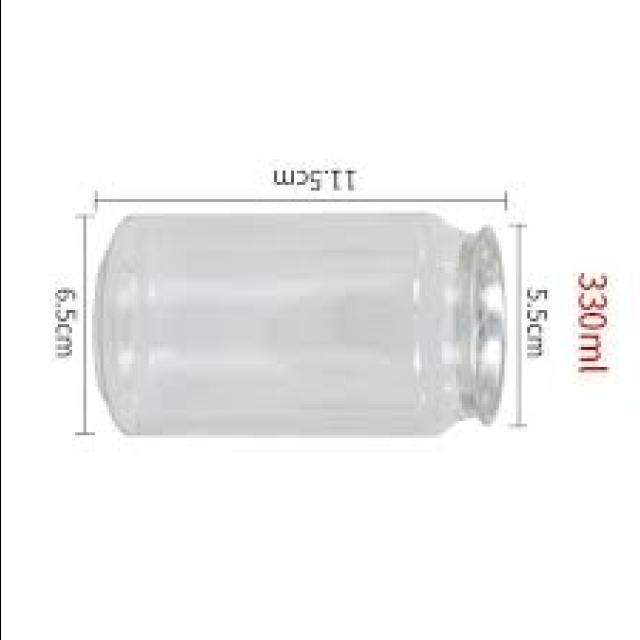寶特瓶: (90, 191, 538, 453)
